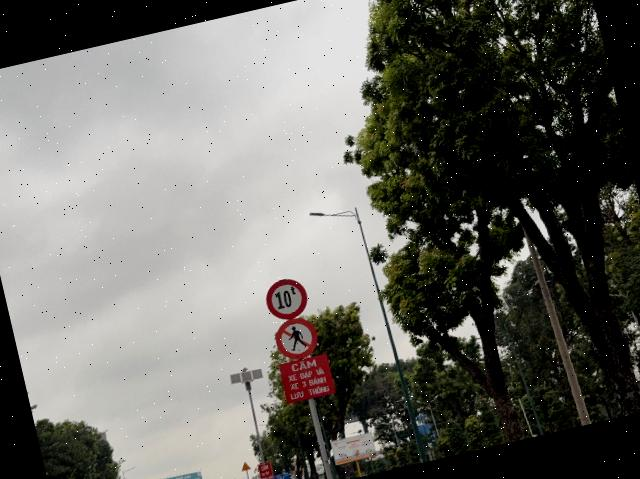cam-nguoi-di-bo: (272, 313, 322, 363)
han-che-trong-luong-xe: (262, 274, 311, 323)
